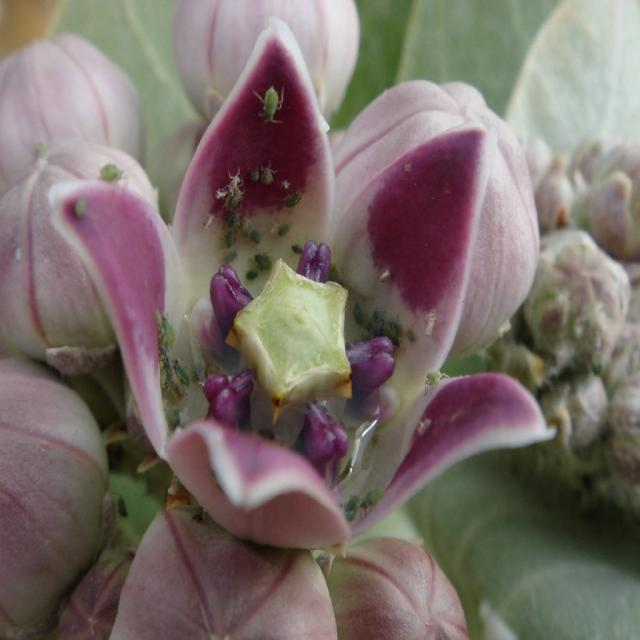Poisonous-Calatropis: (46, 26, 556, 558)
